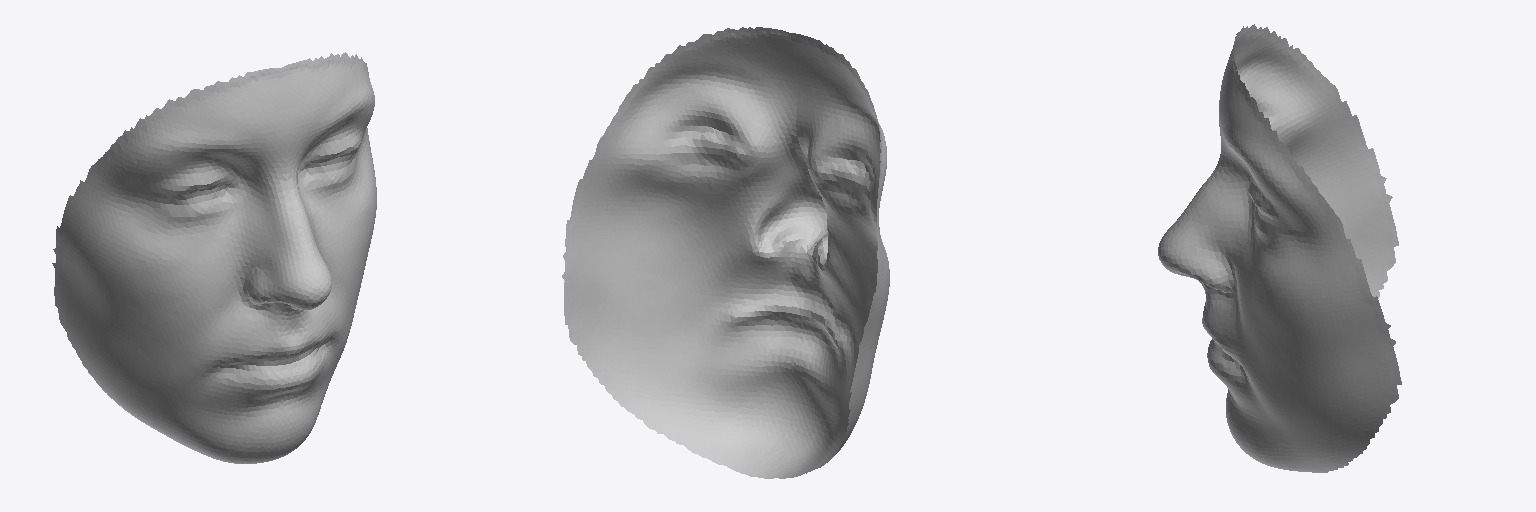
File: SIMPOP_40.obj
3 views of the same model, side by side, from view 1: azimuth 30°, elevation 25°; view 2: azimuth 150°, elevation 25°; view 3: azimuth 270°, elevation 25° (orthographic).
Parts seen in each view (by area): view 1: SIMPOP_40; view 2: SIMPOP_40; view 3: SIMPOP_40.
Part boxes in pixels (left/top/right/bottom): SIMPOP_40: left=52, top=52, right=376, bottom=463; SIMPOP_40: left=562, top=27, right=889, bottom=478; SIMPOP_40: left=1158, top=24, right=1401, bottom=472.
Size of the model in its own units: 141 by 183 by 97.84.